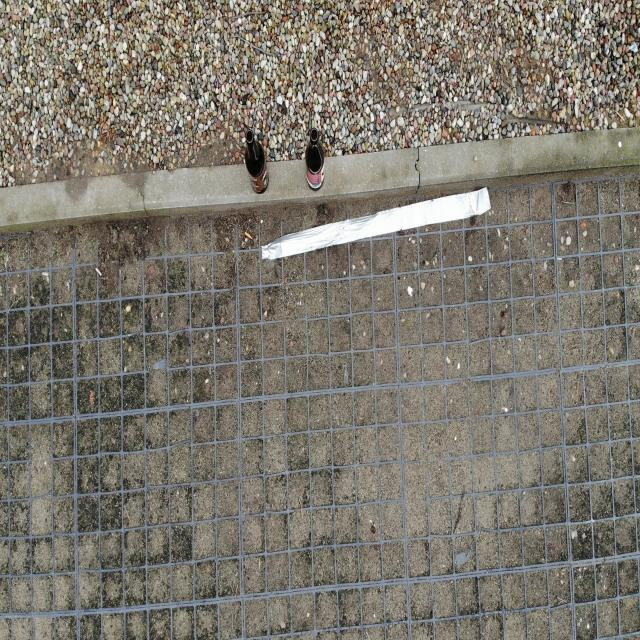rubbish: (260, 184, 491, 258), (244, 129, 269, 193), (304, 129, 325, 191)
